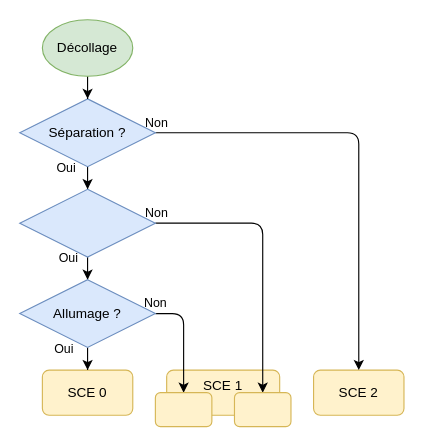
This 424x446 diagram has some shape labels left out. The shapes that lost their labels are listed below. From the top down, each one's centre as x and y in pixels, then its label:
At point 87,222: "Attitude ?".
At point 183,409: "SCE 1.1".
At point 262,409: "SCE 1.2".
